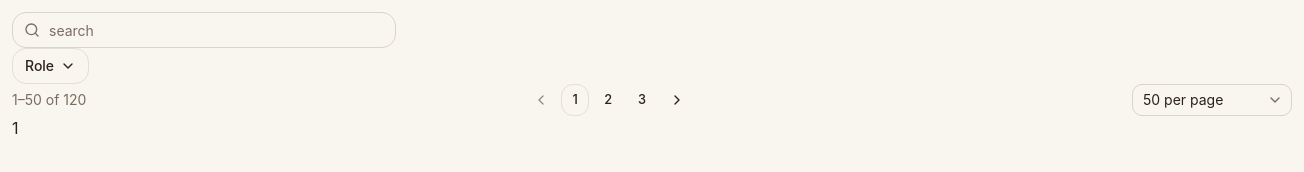
Test: query changes reset the page › search input from page 2 returns to page 1
This screenshot has width=1304, height=172.
Click the button "2": point(608, 100) [593,84,623,116]
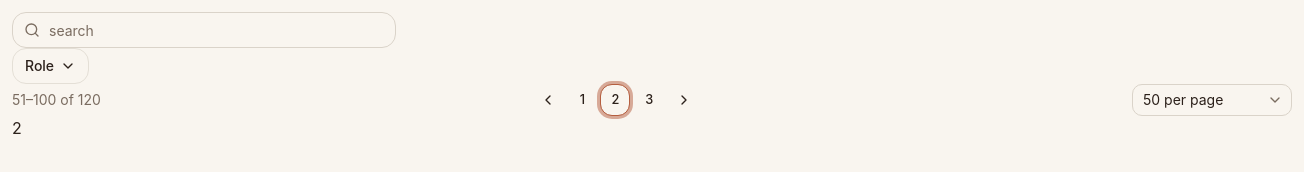
Expected: the text with test id "page" reads "2", [12,118,22,138]
In the field with placeholder "search": point(204, 30) [12,12,396,48], type "ab"
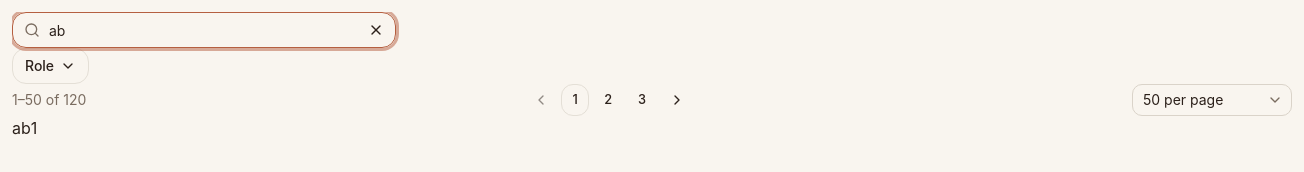
Expected: the text with test id "q" reads "ab", [12,118,31,138]
Expected: the text with test id "page" reads "1", [31,118,37,138]
